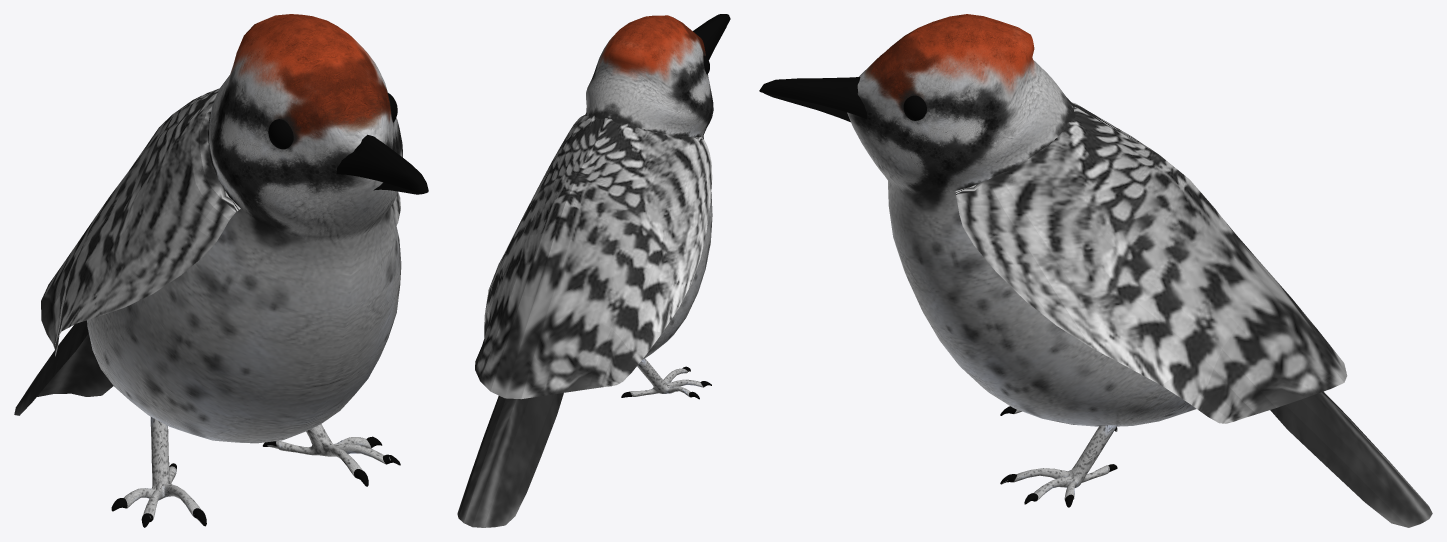
File: Carpintero mexicano.glb
3 views of the same model, side by side, from view 1: azimuth 30°, elevation 25°; view 2: azimuth 150°, elevation 25°; view 3: azimuth 270°, elevation 25° (orthographic). The views are drawn at different scales.
Parts seen in each view (by area): view 1: Dryobates scalaris; view 2: Dryobates scalaris; view 3: Dryobates scalaris.
Boxes of the visible parts, x1,y1,x2,y2 form: Dryobates scalaris: (14,14,428,527); Dryobates scalaris: (457,14,730,527); Dryobates scalaris: (759,14,1432,527).
Size of the model in its own units: 3.9 by 7.8 by 9.6.
3 materials, 3 textured.
